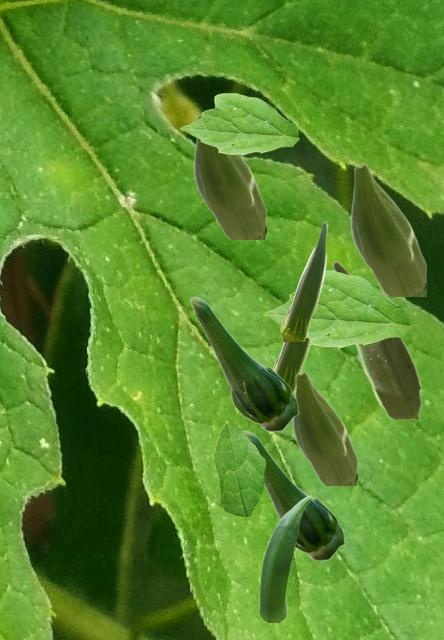okra: (189, 296, 298, 431), (332, 260, 420, 418), (242, 430, 344, 560), (350, 163, 425, 295), (193, 113, 265, 238), (292, 371, 356, 484), (258, 495, 311, 621), (280, 221, 326, 340), (272, 339, 310, 391)
